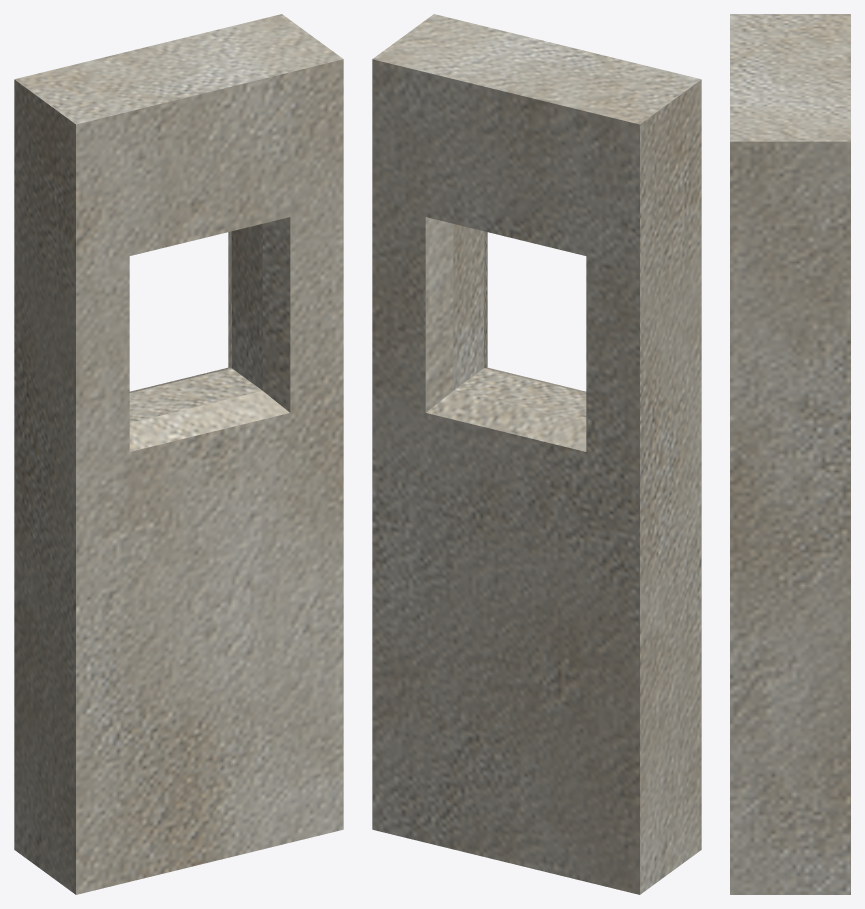
File: WindowSmall.fbx
3 views of the same model, side by side, from view 1: azimuth 30°, elevation 25°; view 2: azimuth 150°, elevation 25°; view 3: azimuth 270°, elevation 25° (orthographic). The views are drawn at different scales.
Visible parts, largest first — view 1: Wall_2m75; view 2: Wall_2m75; view 3: Wall_2m75.
Part boxes in pixels (x1=…): Wall_2m75: x1=14, y1=14, x2=343, y2=894; Wall_2m75: x1=372, y1=14, x2=701, y2=894; Wall_2m75: x1=730, y1=14, x2=850, y2=894.
Size of the model in its own units: 100 by 275 by 40.
Materials: 1 (1 with a texture image).
